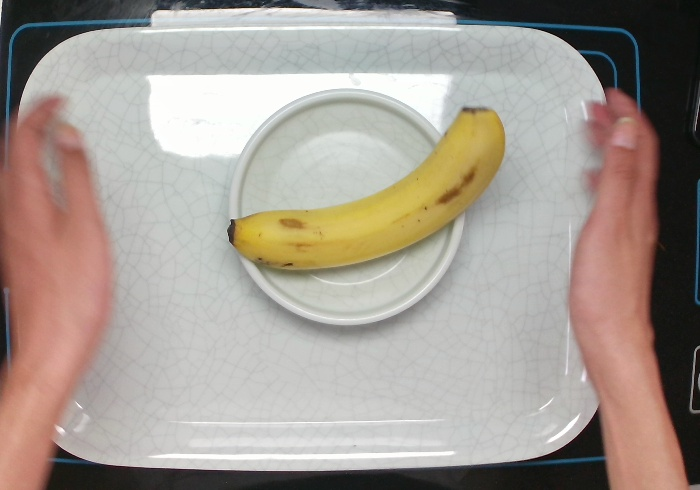JYsf-Xiao_Yuan_Pan: (228, 87, 467, 326)
